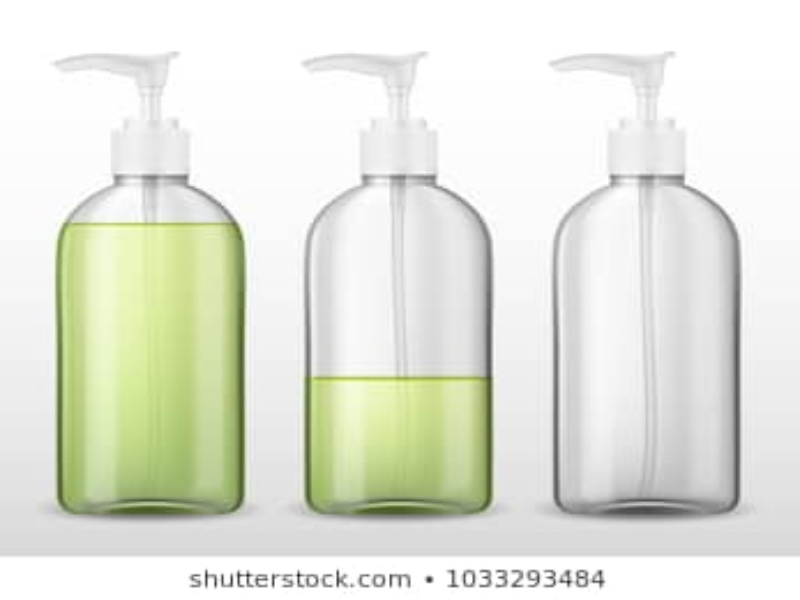shampoo-bottle: (44, 49, 255, 525), (539, 48, 748, 519), (294, 51, 504, 514)
